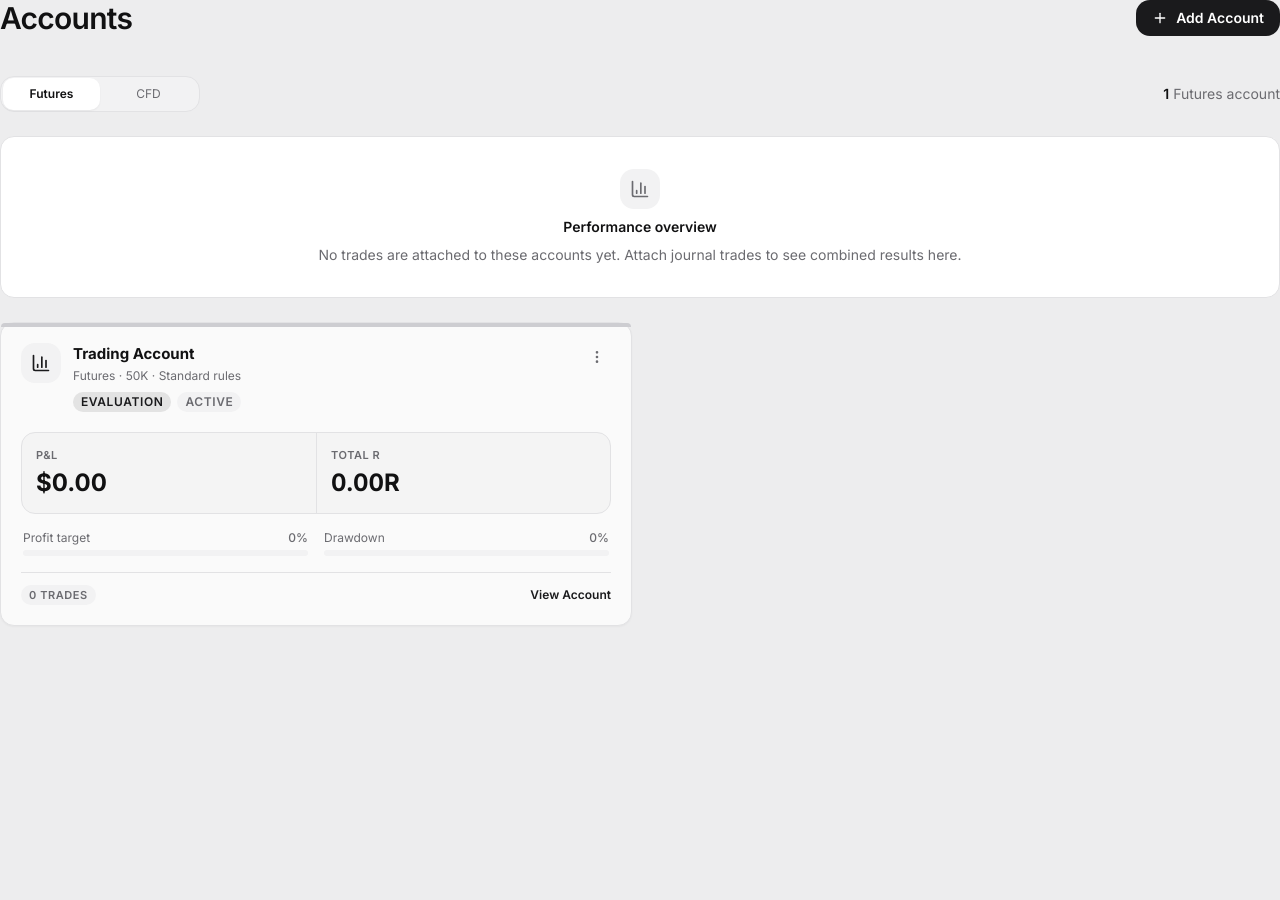
Test case: AccountsPage › opens the edit account form with pre-filled values
Click the button titled "More actions for Trading Account".
click(597, 357)  # box x1=583 y1=343 x2=611 y2=371
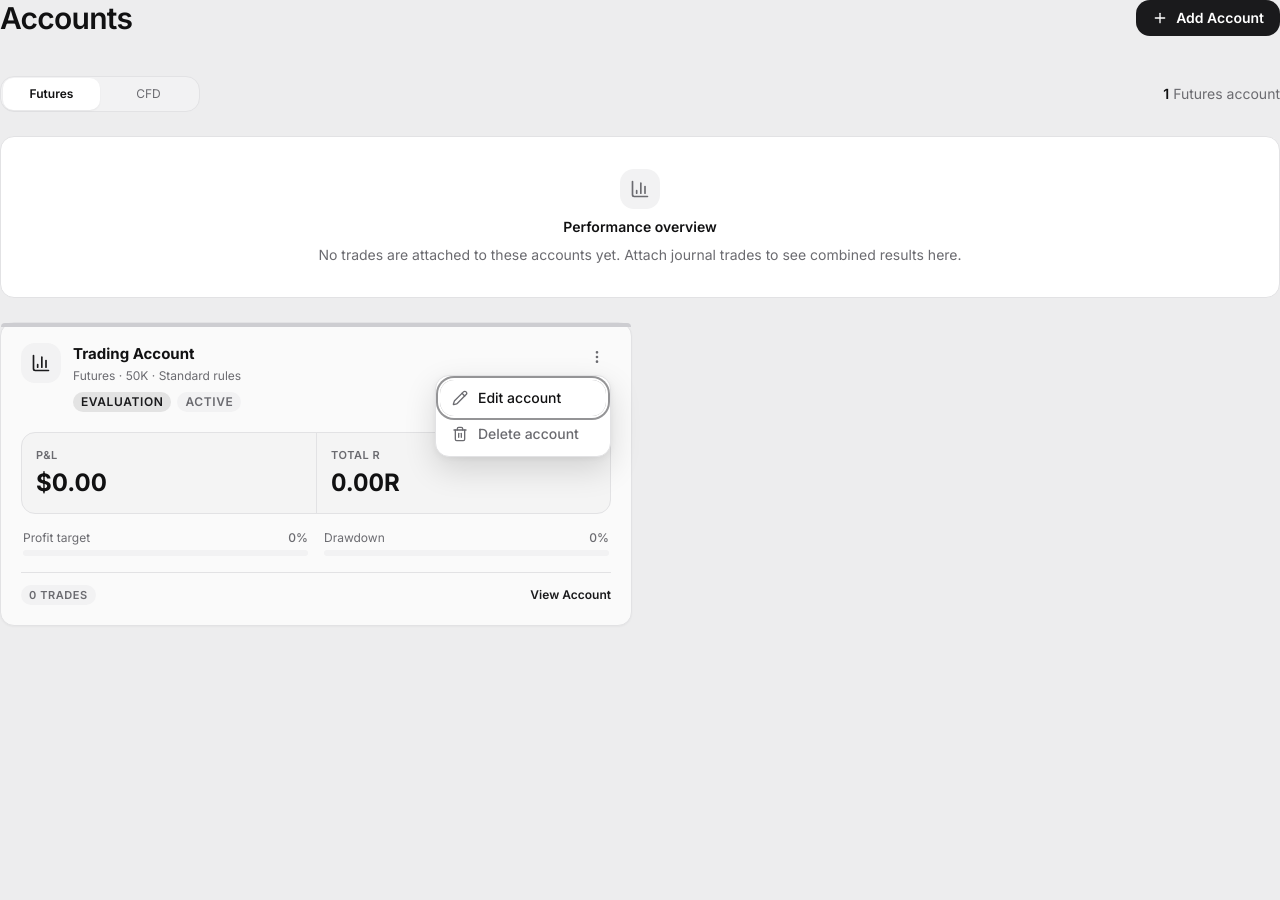
Now the menu item "Edit account" is shown
Click the menu item "Edit account".
click(523, 398)  # box x1=440 y1=380 x2=606 y2=416
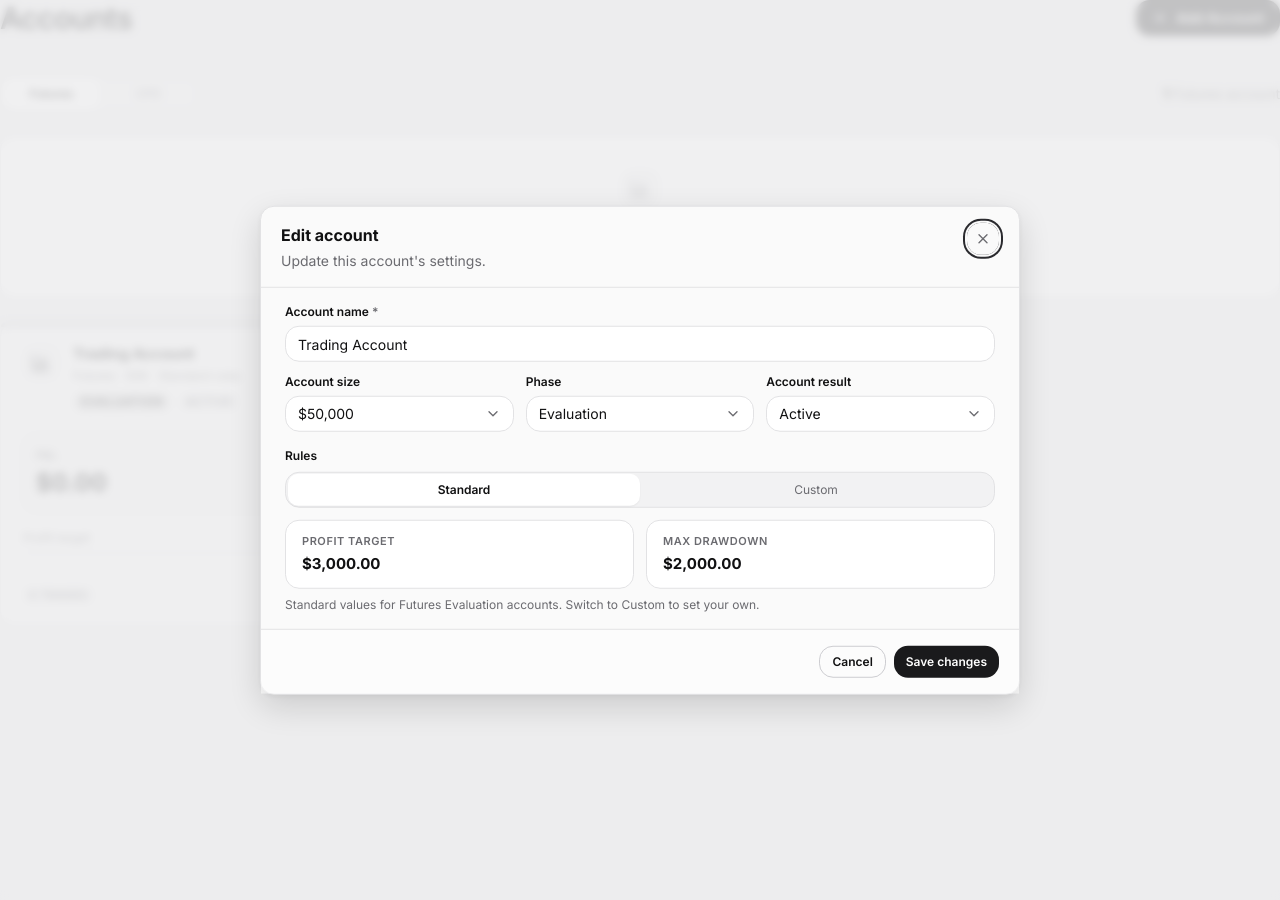
Now the heading "Edit account" is shown, box x1=281 y1=225 x2=378 y2=245
Now the field showing "Trading Account" is shown, box x1=285 y1=326 x2=995 y2=362
Now the label showing "$50,000" is shown, box x1=285 y1=374 x2=360 y2=389
